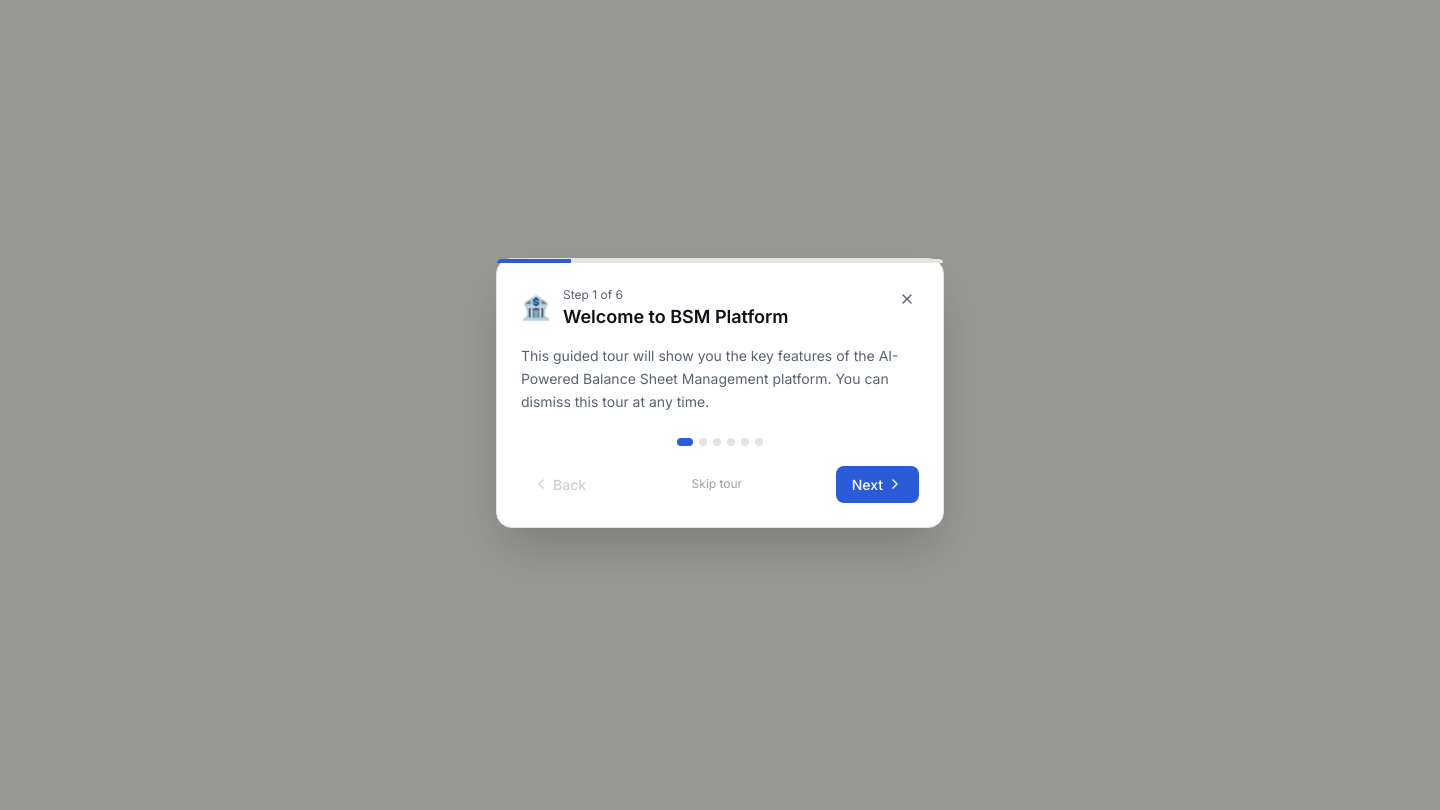
Test: ProductTour › Next button advances to step 2
This screenshot has width=1440, height=810.
Click the button with aria-label "Next step": (877, 484) 836,466 -> 919,503
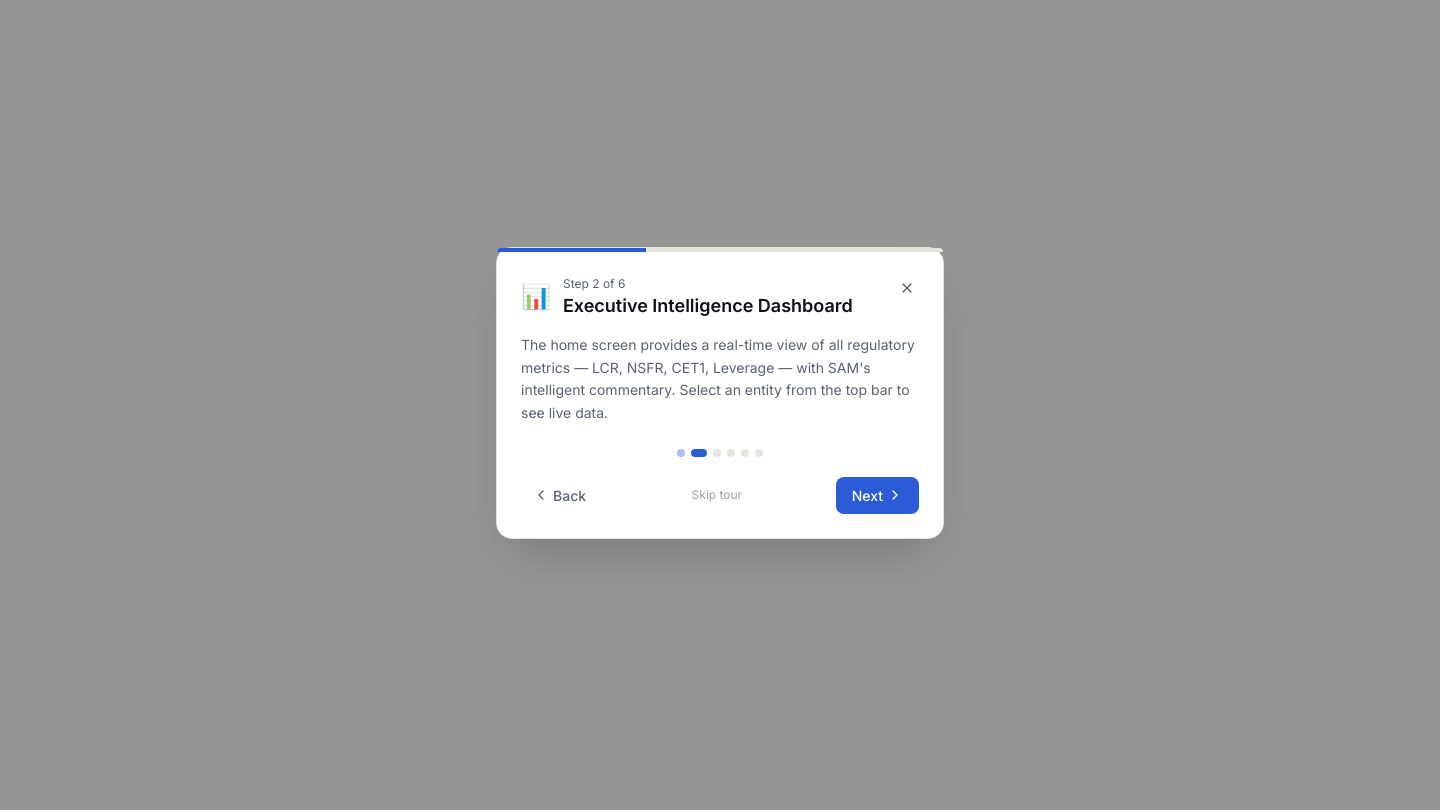
Check: the text "Step 2 of 6" is shown, box 563,276 -> 625,291
